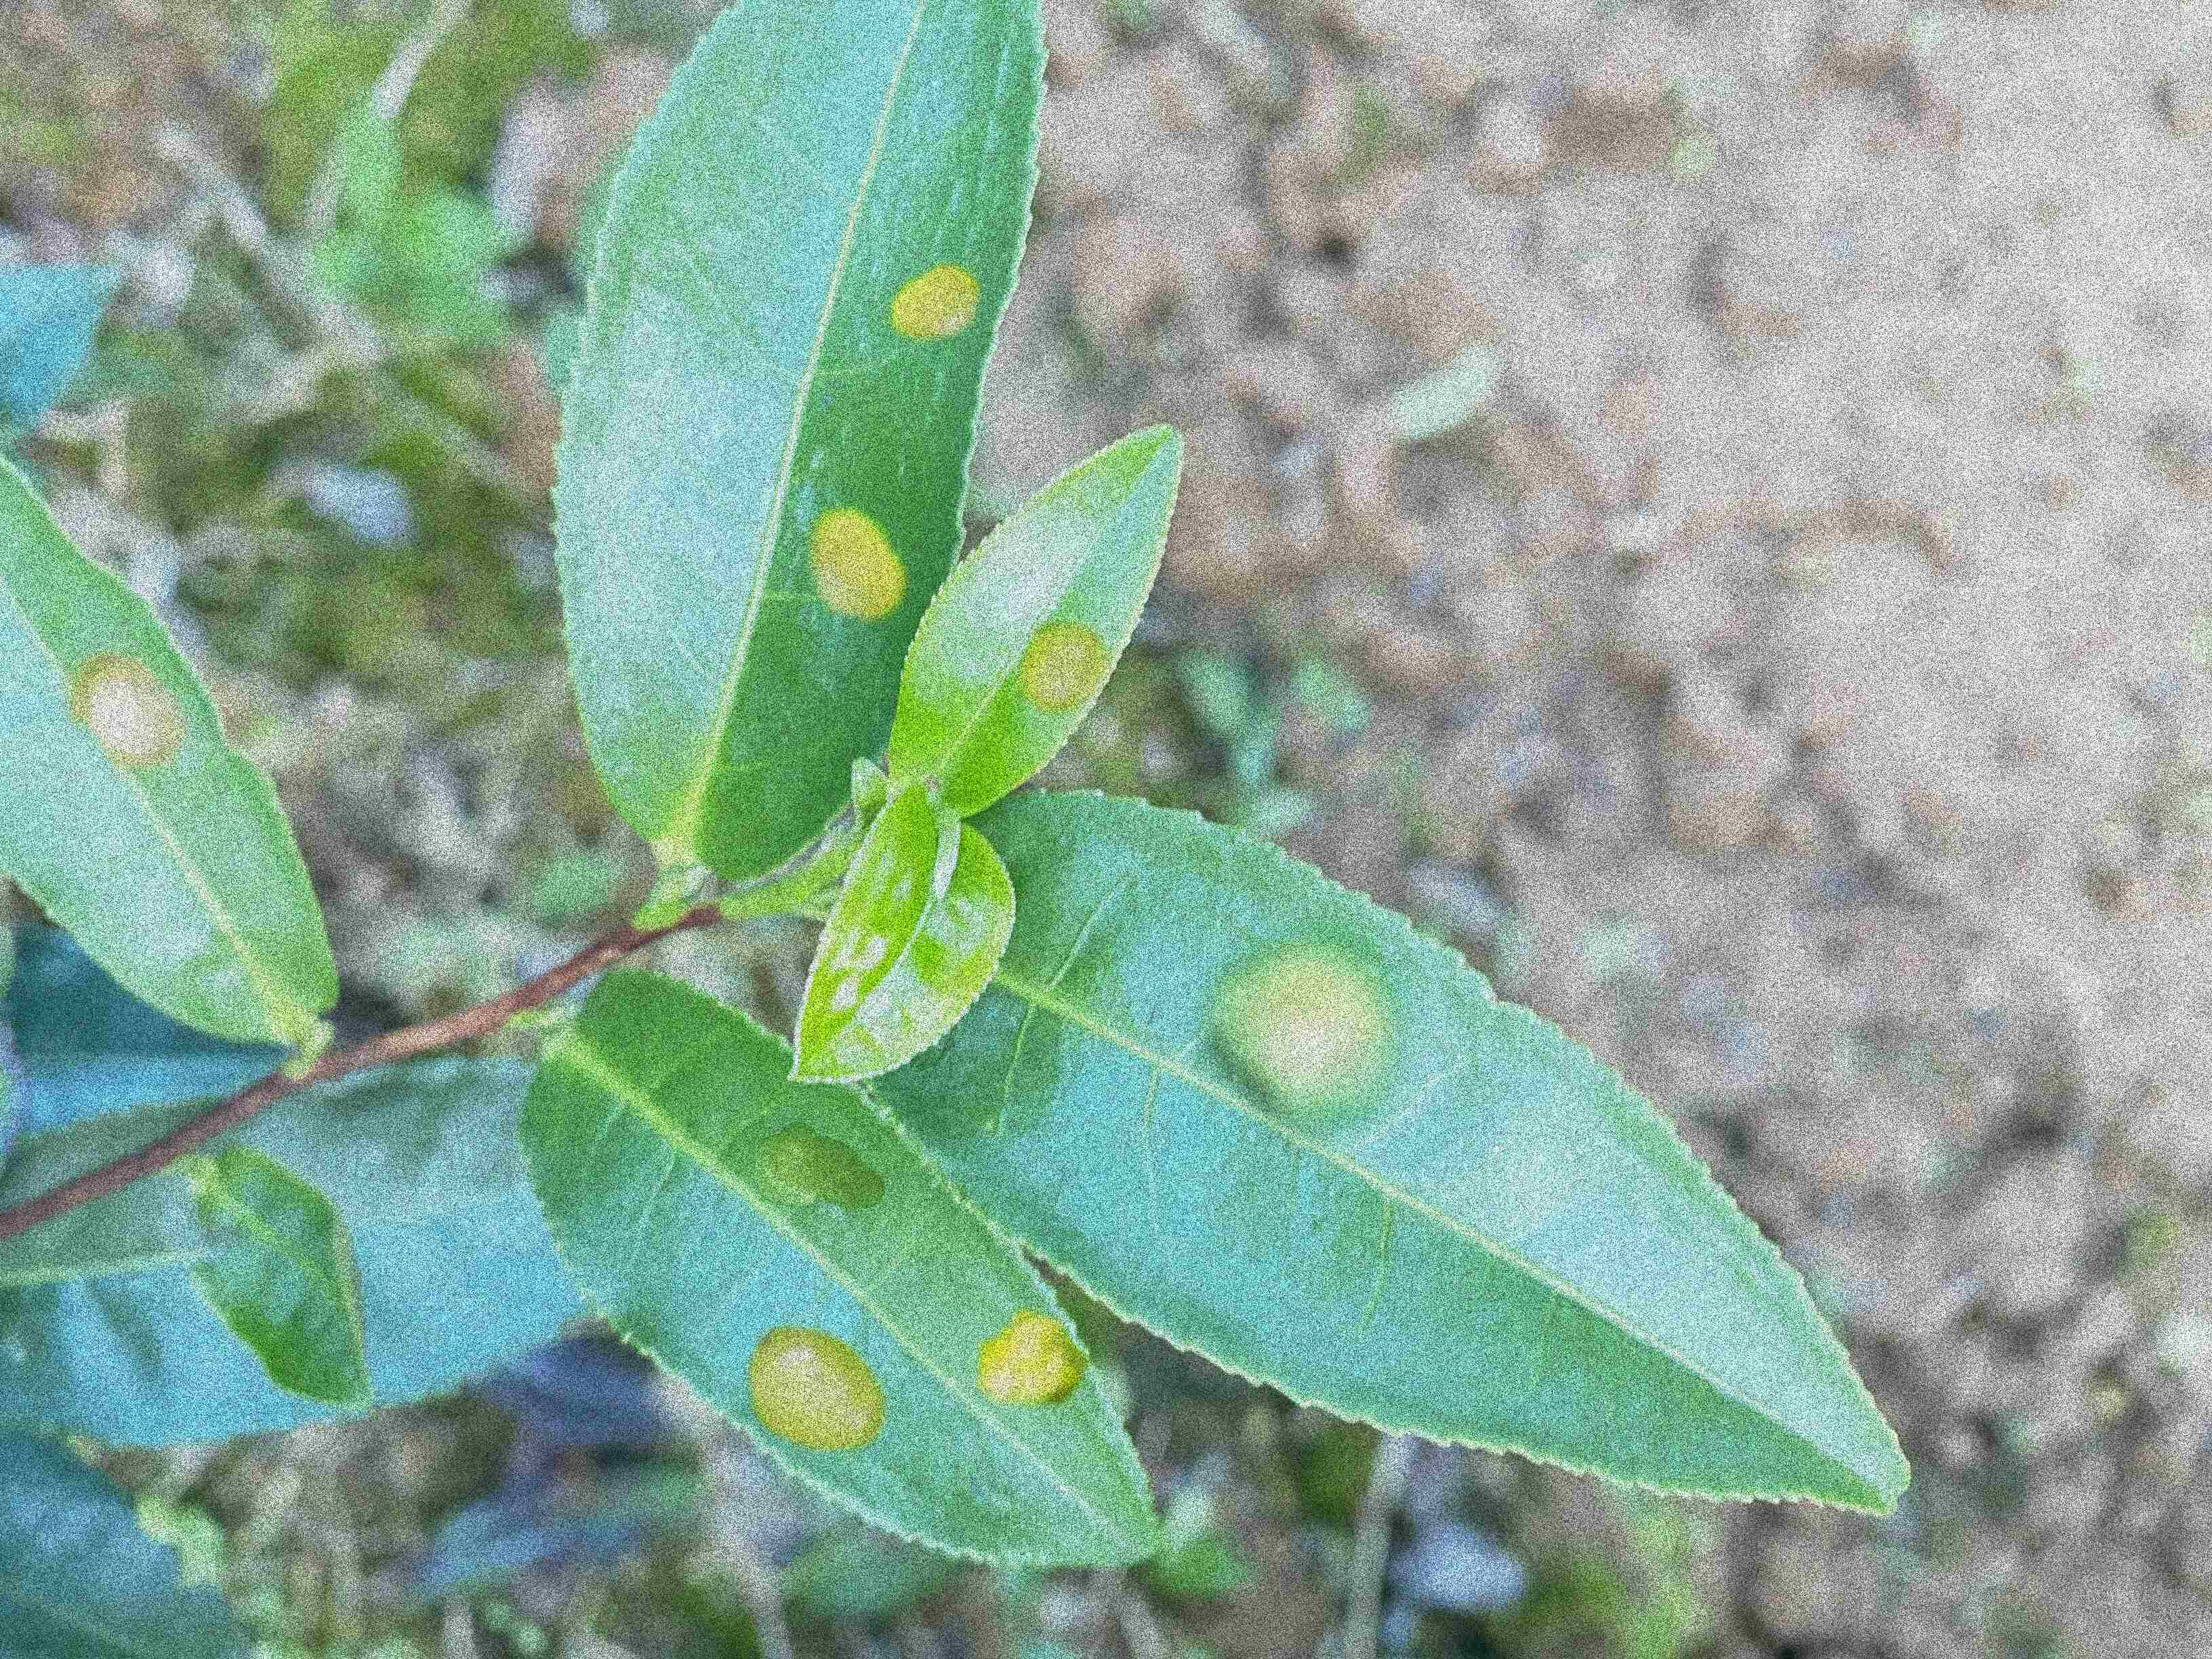chabing_high: (556, 0, 1049, 875), (523, 965, 1160, 1570)
chabing_low: (867, 779, 1916, 1516), (3, 450, 338, 1054), (890, 427, 1186, 812)
healthy: (786, 789, 1015, 1086)
